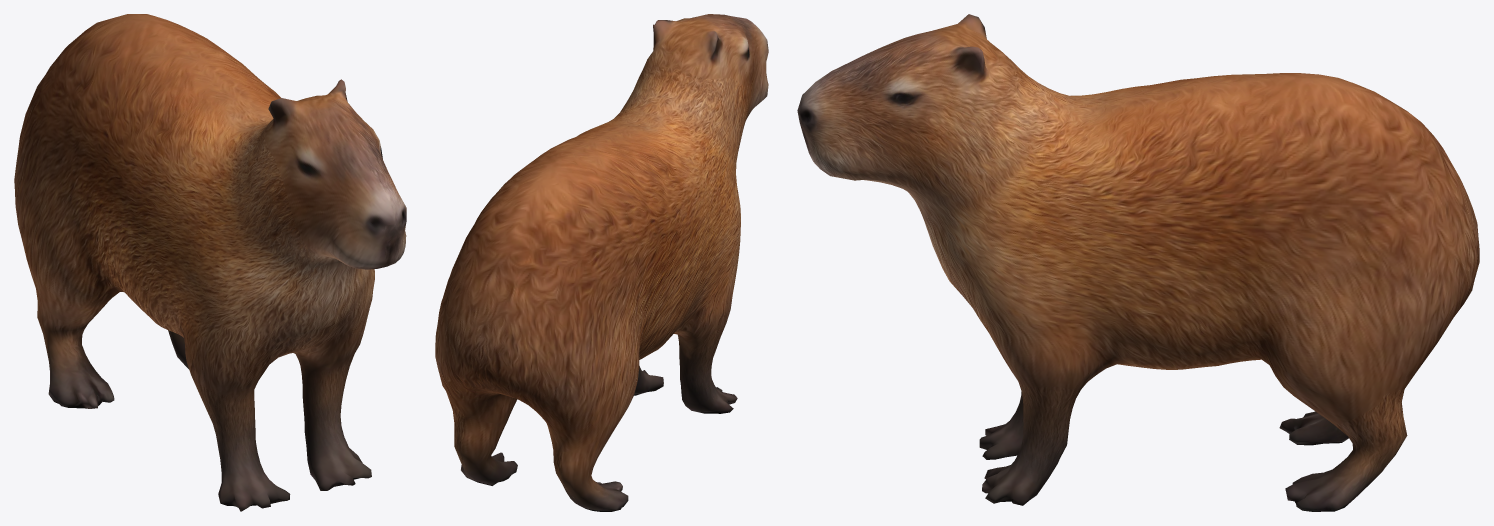
Rendered from capybara.glb.
The picture shows the model from 3 angles, left to right: view 1: azimuth 30°, elevation 25°; view 2: azimuth 150°, elevation 25°; view 3: azimuth 270°, elevation 25°; orthographic projection. The views are drawn at different scales.
Parts seen in each view (by area): view 1: Capybara_mesh_Capybara_mat_0; view 2: Capybara_mesh_Capybara_mat_0; view 3: Capybara_mesh_Capybara_mat_0.
Boxes of the visible parts, x1,y1,x2,y2 form: Capybara_mesh_Capybara_mat_0: (14,14,406,511); Capybara_mesh_Capybara_mat_0: (435,14,768,511); Capybara_mesh_Capybara_mat_0: (797,14,1479,511).
Bounding box in the file's own units: 0.3071 × 0.6295 × 0.8801.
1 material, 1 textured.
